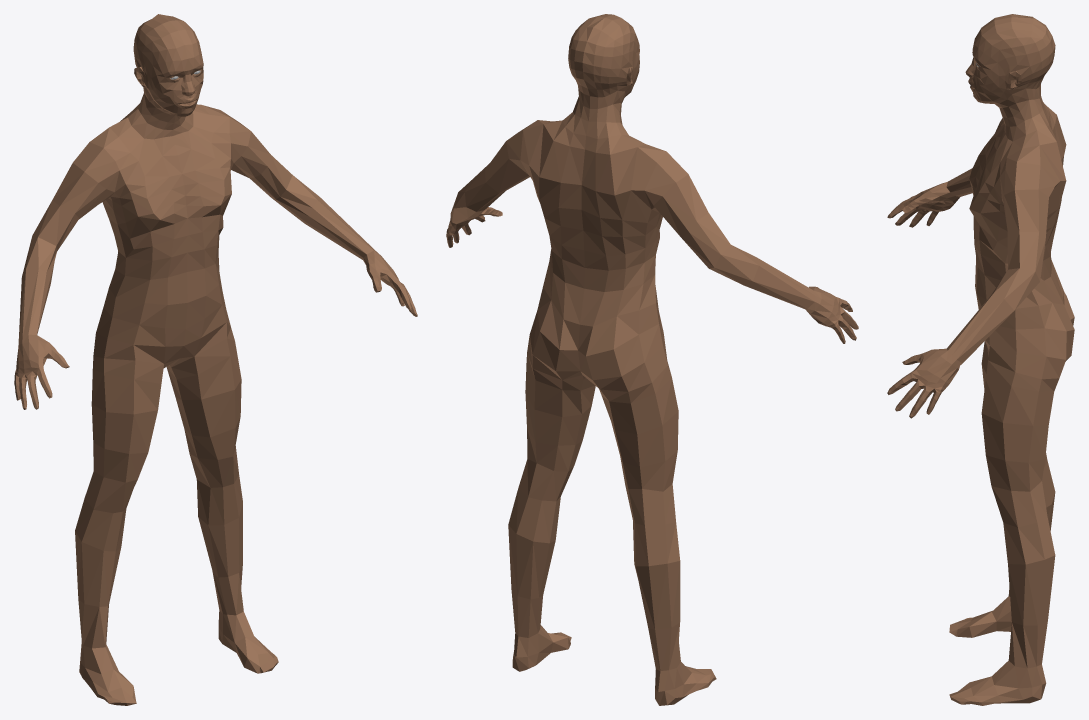
The model's file is male1591.obj.
The picture shows the model from 3 angles, left to right: view 1: azimuth 30°, elevation 25°; view 2: azimuth 150°, elevation 25°; view 3: azimuth 270°, elevation 25°; orthographic projection. The views are drawn at different scales.
Visible parts, largest first — view 1: male1591.obj; view 2: male1591.obj; view 3: male1591.obj.
Boxes of the visible parts, x1,y1,x2,y2 form: male1591.obj: [14, 14, 417, 705]; male1591.obj: [446, 14, 858, 705]; male1591.obj: [887, 14, 1074, 705].
Size of the model in its own units: 1.05 by 1.66 by 0.4336.
